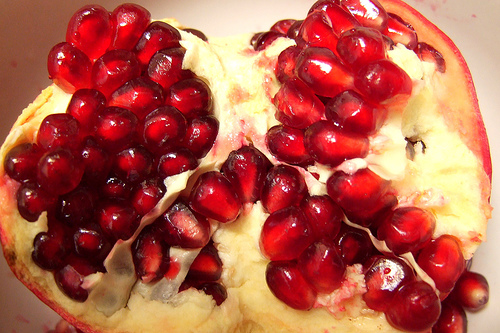pomogranate: (0, 0, 493, 332)
